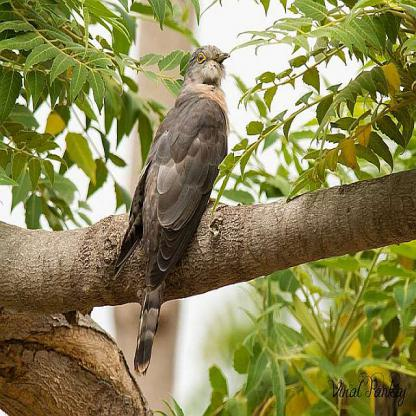Burung: (112, 44, 230, 377)
